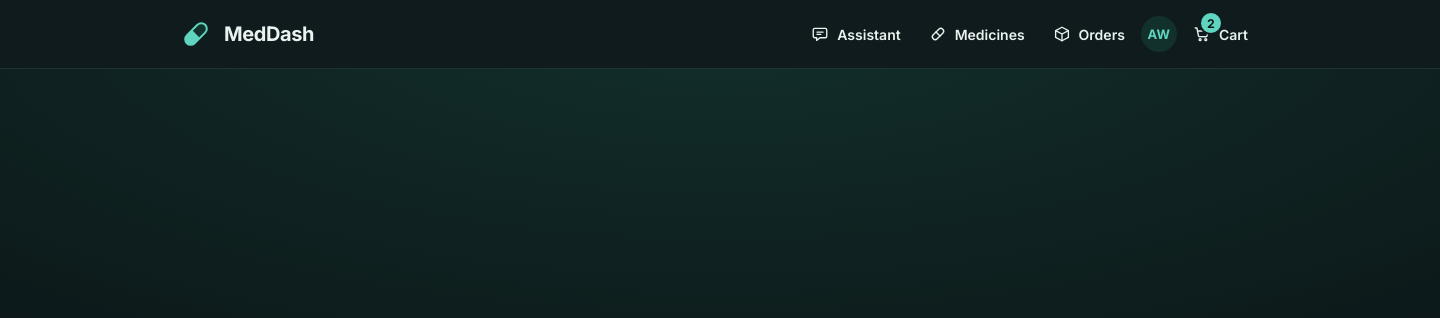
AppHeader › signed in: Orders and the account menu, with the theme inside it
This screenshot has width=1440, height=318.
Check: the link with aria-label "Cart, 2 items" is shown, box [1193,13,1248,43]
Check: the button "Dark mode" is not shown
Click the button at x=1159, y=34, box [1141,16,1177,52]
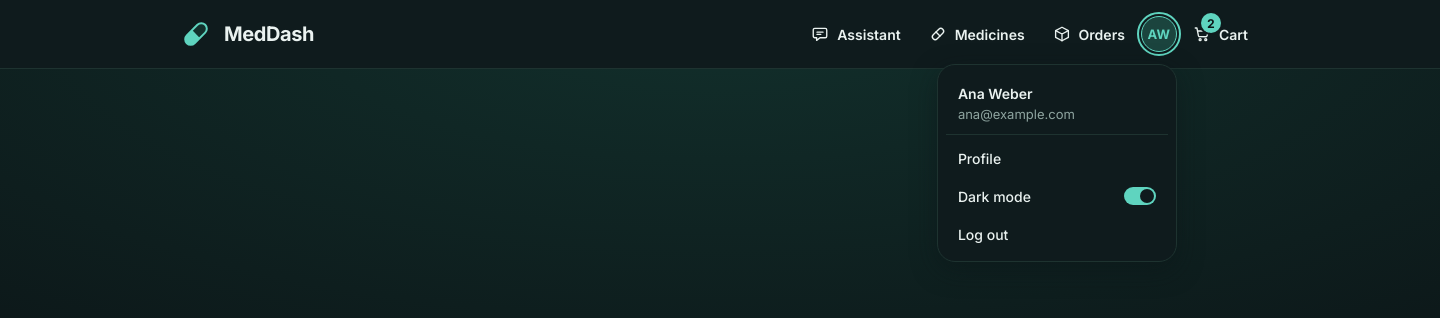
Check: the button "Dark mode" is shown, box [946,177,1168,215]
